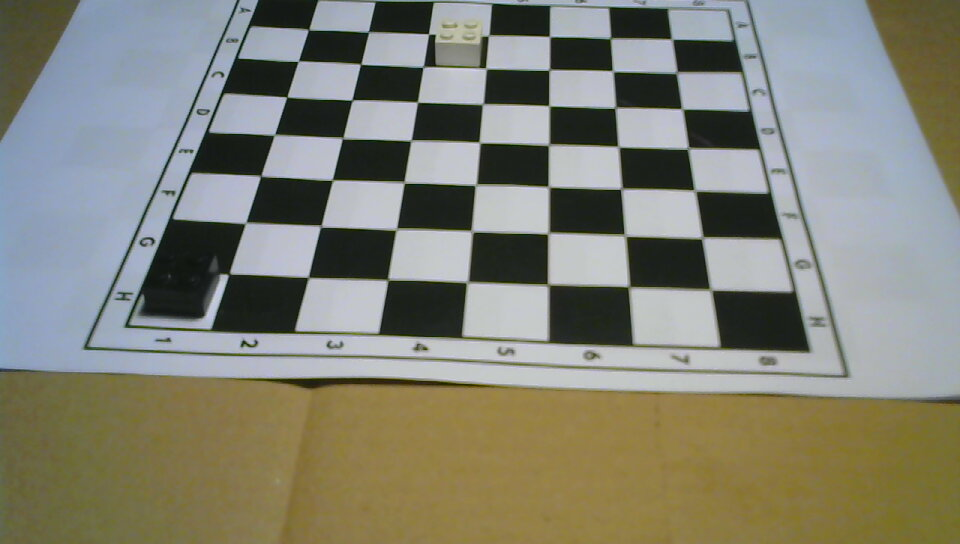bp: (142, 245, 220, 317)
wp: (435, 15, 482, 70)
